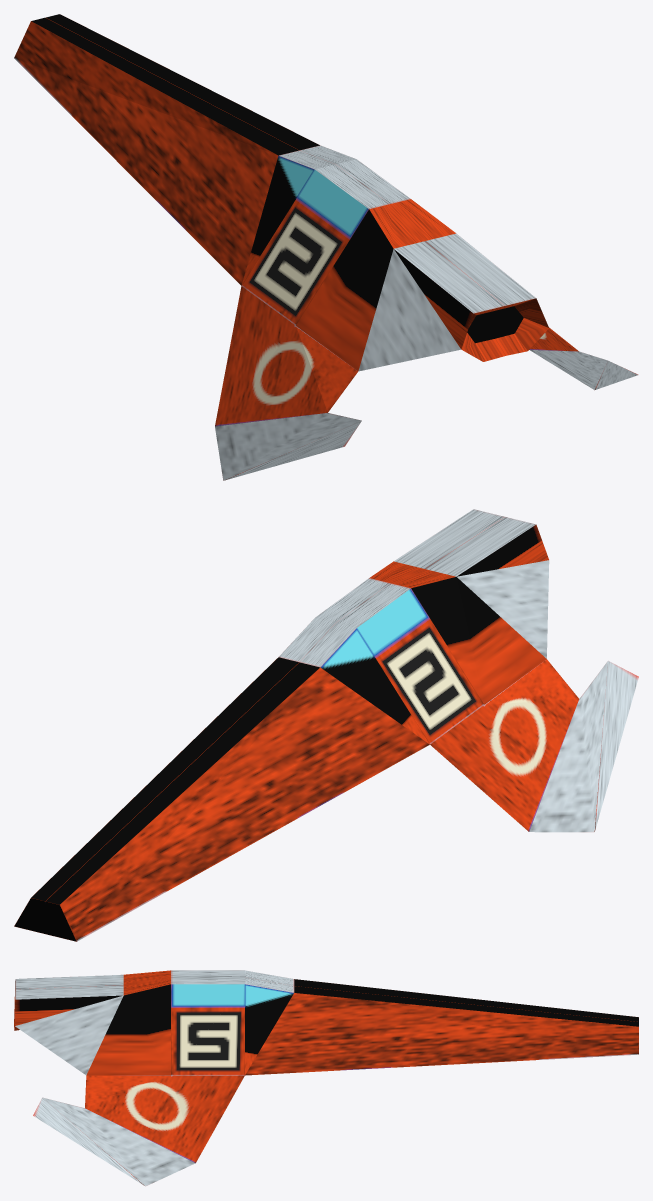
File: craft3.fbx
The picture shows the model from 3 angles, top to bottom: view 1: azimuth 30°, elevation 25°; view 2: azimuth 150°, elevation 25°; view 3: azimuth 270°, elevation 25°; orthographic projection. The views are drawn at different scales.
Parts seen in each view (by area): view 1: Cube; view 2: Cube; view 3: Cube.
Part boxes in pixels (x1,y1,x2,y2): Cube: (14, 14, 638, 480); Cube: (14, 509, 638, 941); Cube: (14, 970, 638, 1186).
Size of the model in its own units: 1182 by 662 by 2538.
